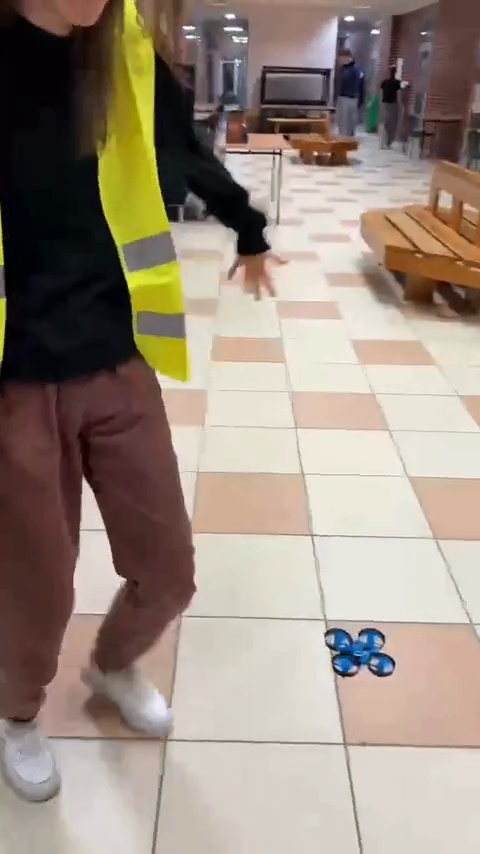drone: (322, 623, 399, 682)
no vest: (328, 51, 362, 149), (377, 64, 414, 147)
vest: (6, 4, 215, 806)
